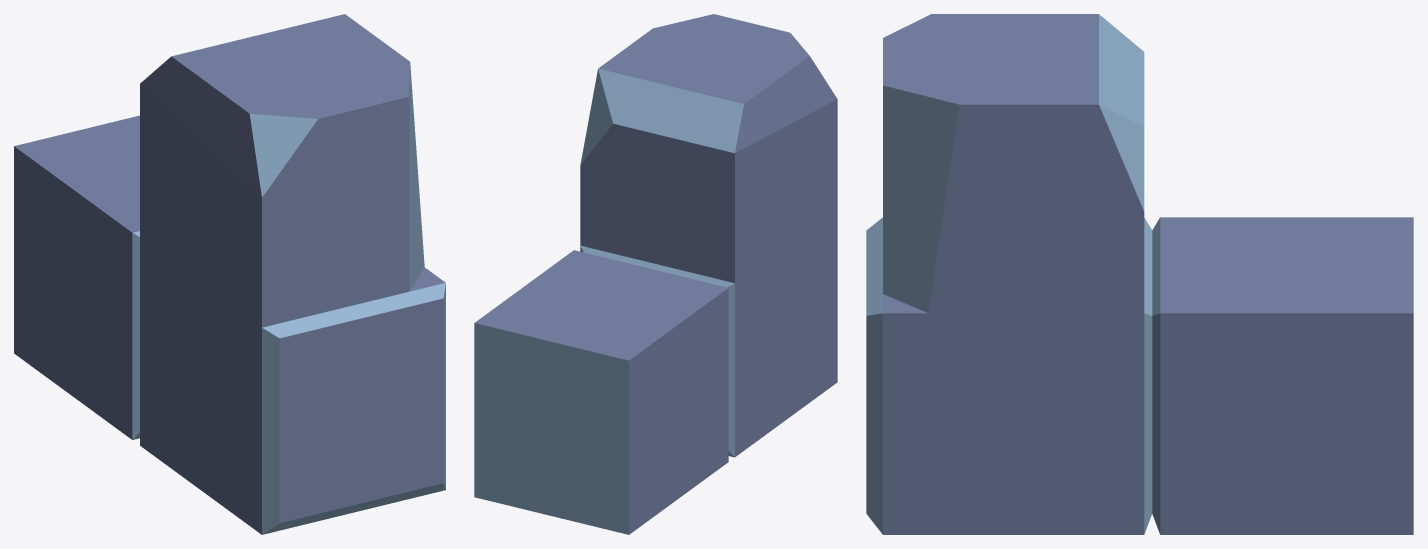
Rendered from Wall_Base_Balustrade_05.fbx.
The picture shows the model from 3 angles, left to right: view 1: azimuth 30°, elevation 25°; view 2: azimuth 150°, elevation 25°; view 3: azimuth 270°, elevation 25°; orthographic projection. The views are drawn at different scales.
Visible parts, largest first — view 1: Wall_Base_Balustrade_06; view 2: Wall_Base_Balustrade_06; view 3: Wall_Base_Balustrade_06.
Boxes of the visible parts, x1,y1,x2,y2 form: Wall_Base_Balustrade_06: (14,14,445,534); Wall_Base_Balustrade_06: (474,14,837,534); Wall_Base_Balustrade_06: (866,14,1413,534).
Bounding box in the file's own units: 71.25 × 149 × 172.
